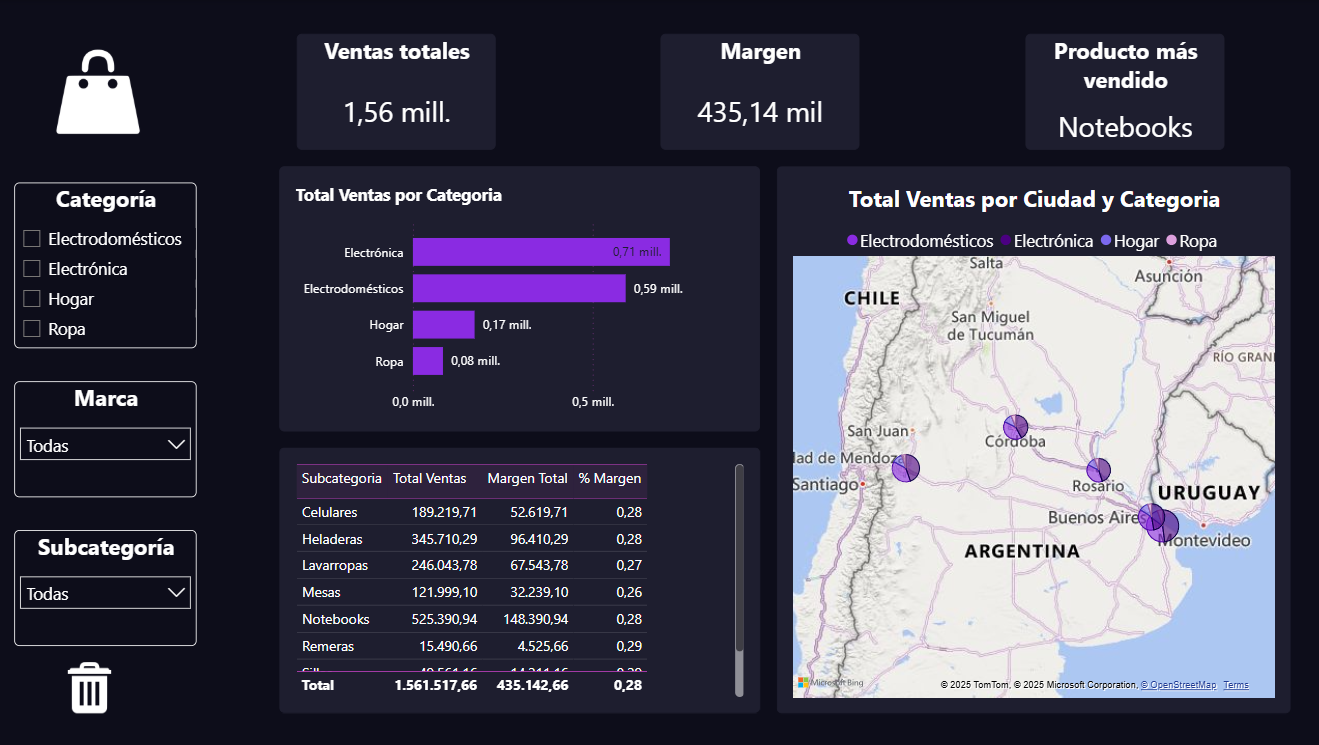

What the dashboard file says about the page in this screenshot:
{"tool":"powerbi","page":{"name":"Productos","canvas":[1280,720],"ordinal":2},"visuals":[{"type":"card","title":"Ventas totales","fields":{"Values":["Ventas.Total Ventas"]},"box":[288,32,192,112],"z":0},{"type":"slicer","title":"Categoría","fields":{"Values":["Productos.Categoria"]},"box":[16,176,176,160],"z":1000},{"type":"slicer","title":"Subcategoría","fields":{"Values":["Productos.Subcategoria"]},"box":[16,512,176,112],"z":2000},{"type":"slicer","title":"Marca","fields":{"Values":["Productos.Marca"]},"box":[16,368,176,112],"z":3000},{"type":"card","title":"Margen","fields":{"Values":["Ventas.Margen Total"]},"box":[640,32,192,112],"z":4000},{"type":"card","title":"Producto más vendido","fields":{"Values":["Productos.Producto Más Vendido"]},"box":[992,32,192,112],"z":5000},{"type":"clusteredBarChart","fields":{"Y":["Ventas.Total Ventas"],"Category":["Productos.Categoria"]},"box":[272,160,464,256],"z":6000},{"type":"tableEx","fields":{"Values":["Productos.Subcategoria","Ventas.Total Ventas","Ventas.Margen Total","Ventas.% Margen"]},"box":[272,432,464,256],"z":7000},{"type":"map","fields":{"Category":["Clientes.Ciudad"],"Size":["Ventas.Total Ventas"],"Series":["Productos.Categoria"]},"box":[752,160,496,528],"z":8000},{"type":"image","box":[32,32,128,112],"z":8001},{"type":"image","box":[48,624,80,80],"z":8002}]}

Visuals, with their boxes in screenshot pixels (x1, y1, x2, y2), scaled from the page's 1280x720 canvas onto the 1319x745 screenshot:
"Ventas totales" card: [297, 33, 495, 149]
"Categoría" slicer: [16, 182, 198, 348]
"Subcategoría" slicer: [16, 530, 198, 646]
"Marca" slicer: [16, 381, 198, 497]
"Margen" card: [660, 33, 857, 149]
"Producto más vendido" card: [1022, 33, 1220, 149]
clusteredBarChart - Ventas.Total Ventas x Productos.Categoria: [280, 166, 758, 430]
tableEx - Productos.Subcategoria x Ventas.Total Ventas: [280, 447, 758, 712]
map - Clientes.Ciudad x Ventas.Total Ventas: [775, 166, 1286, 712]
image: [33, 33, 165, 149]
image: [49, 646, 132, 728]
